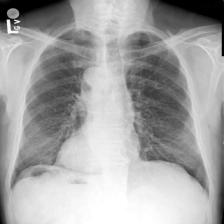normal: (7, 23, 212, 201)
